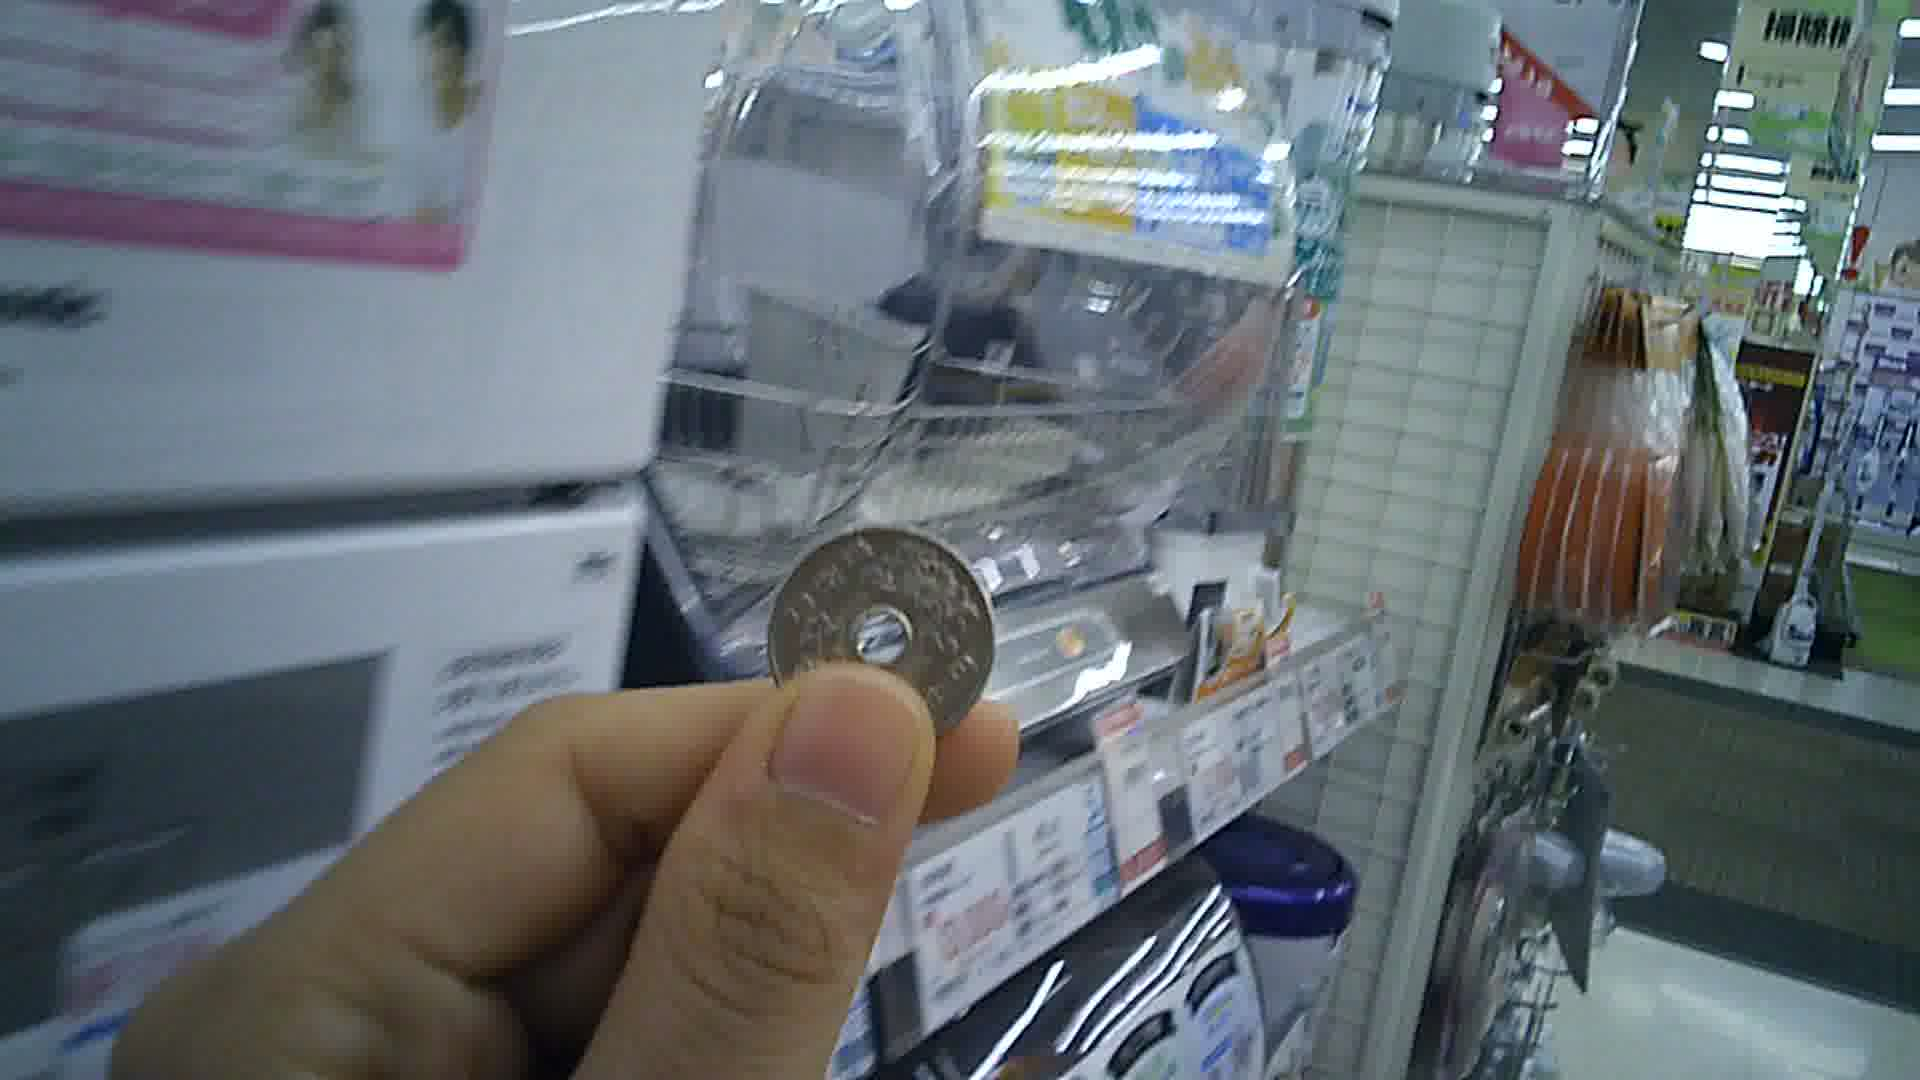50 Yen: (765, 516, 1006, 746)
